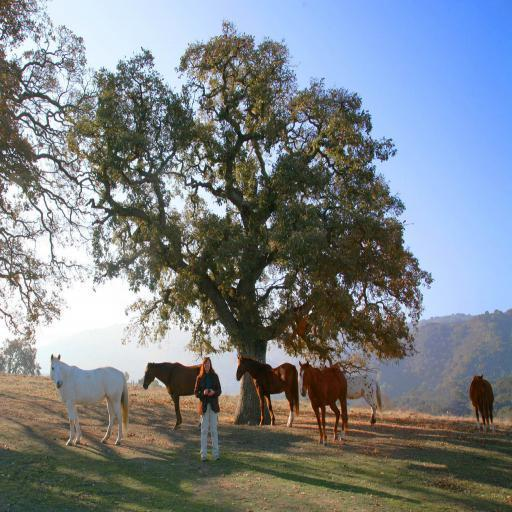horse: (50, 354, 130, 448), (142, 362, 216, 434), (235, 354, 300, 430), (300, 360, 348, 448), (344, 374, 384, 427), (469, 374, 495, 437)
